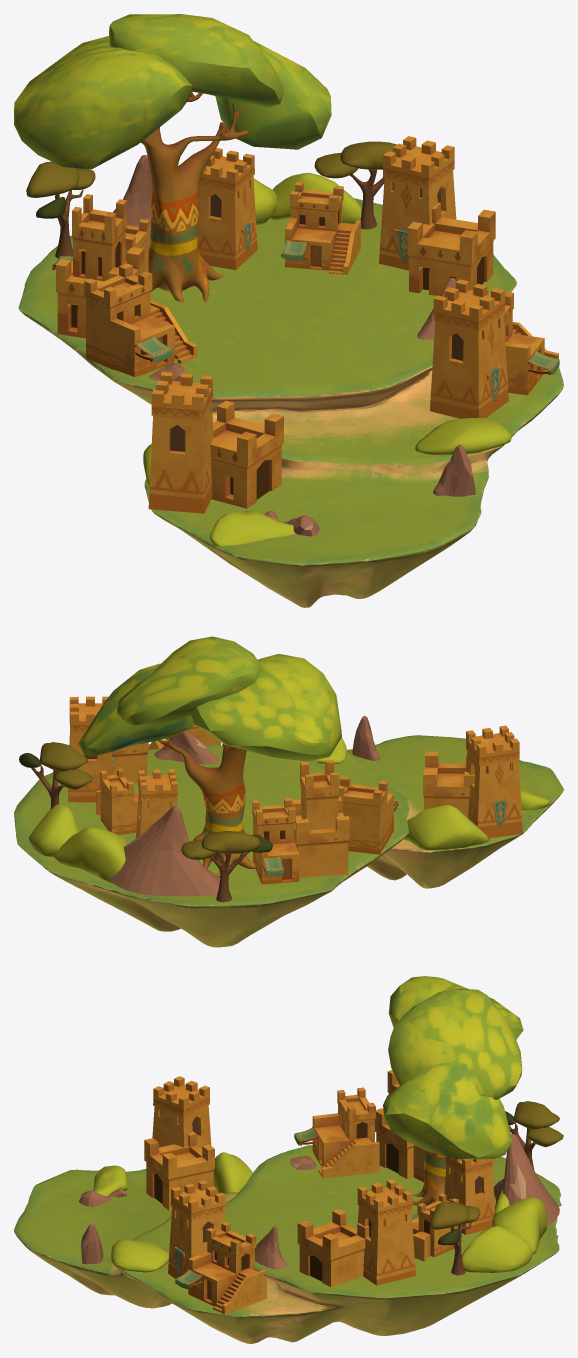
File: map2.fbx
3 renders of one model, top to bottom at view 1: azimuth 30°, elevation 25°; view 2: azimuth 150°, elevation 25°; view 3: azimuth 270°, elevation 25°, orthographic. The views are drawn at different scales.
Parts seen in each view (by area): view 1: Cylinder.002, Plane, Cube.003, Plane.001, Cube.002, Cube.006, Cube.001, Plane.012, Plane.009, Plane.002, Plane.008, Plane.003 (+10 smaller); view 2: Cylinder.002, Plane, Cube.031, Cube.002, Plane.001, Plane.007, Plane.010, Cube.014, Cube.011, Cube.009, Plane.012, Cube.029 (+10 smaller); view 3: Cylinder.002, Plane, Plane.003, Cube.006, Plane.001, Plane.009, Cube.003, Cube.002, Plane.012, Cube.001, Cube.012, Cube.031 (+10 smaller).
Boxes of the visible parts, x1,y1,x2,y2 form: Cylinder.002: (18, 198, 563, 607); Plane: (14, 14, 331, 302); Cube.003: (430, 279, 508, 418); Plane.001: (84, 263, 197, 376); Cube.002: (148, 371, 213, 513); Cube.006: (379, 136, 456, 270); Cube.001: (197, 148, 257, 269); Plane.012: (210, 400, 283, 508); Plane.009: (407, 202, 495, 295); Plane.002: (281, 182, 360, 274); Plane.008: (72, 194, 126, 281); Plane.003: (487, 289, 559, 395); Cylinder.002: (14, 735, 563, 947); Plane: (78, 636, 341, 877); Cube.031: (108, 806, 219, 896); Cube.002: (466, 725, 522, 838); Plane.001: (339, 776, 398, 854); Plane.007: (252, 797, 299, 884); Plane.010: (292, 796, 349, 877); Cube.014: (403, 805, 489, 850); Cube.011: (53, 827, 127, 884); Cube.009: (181, 831, 272, 902); Plane.012: (423, 751, 474, 817); Cube.029: (19, 742, 93, 808); Cylinder.002: (14, 1145, 561, 1343); Plane: (383, 976, 523, 1205); Plane.003: (175, 1222, 266, 1314); Cube.006: (357, 1179, 415, 1285); Plane.001: (294, 1087, 379, 1178); Plane.009: (297, 1209, 369, 1287); Cube.003: (168, 1180, 225, 1278); Cube.002: (152, 1076, 211, 1149); Plane.012: (144, 1131, 214, 1210); Cube.001: (444, 1156, 495, 1234); Cube.012: (461, 1226, 532, 1272); Cube.031: (494, 1134, 559, 1226).
Bounding box in the file's own units: 2713 × 3592 × 2280.
Materials: 8 (8 with a texture image).
